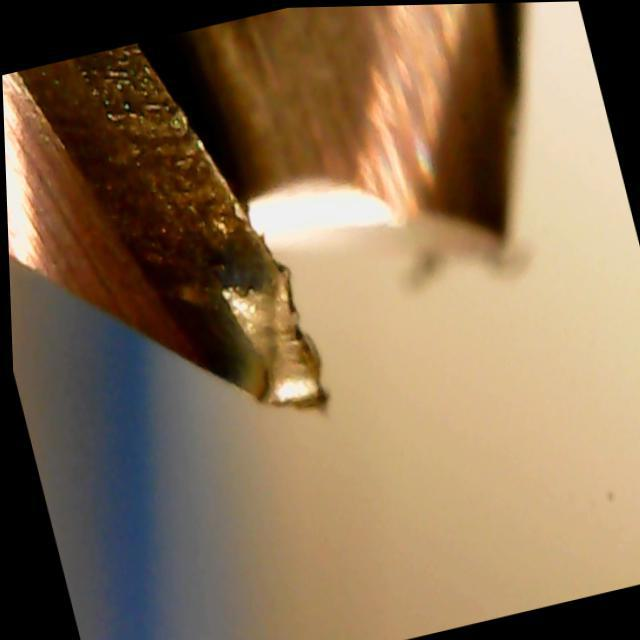Tool-wear-class-2: (126, 65, 340, 443)
